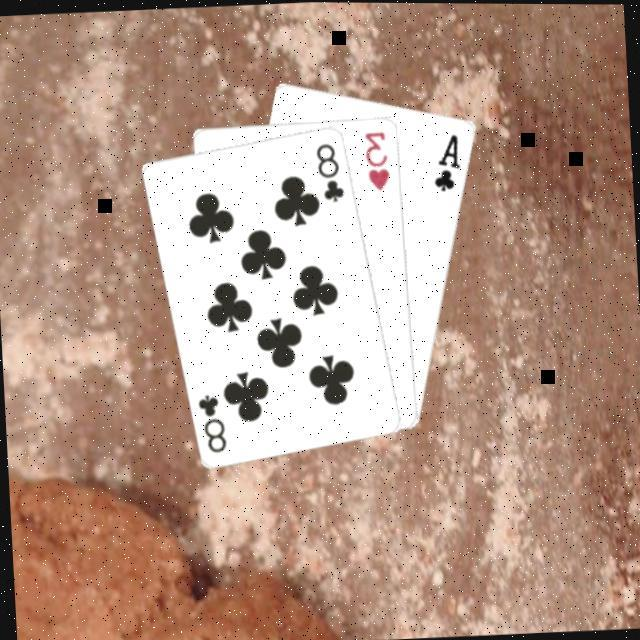3H: (360, 127, 392, 192)
8C: (192, 389, 229, 455), (311, 137, 346, 205)
AC: (427, 128, 464, 192)
